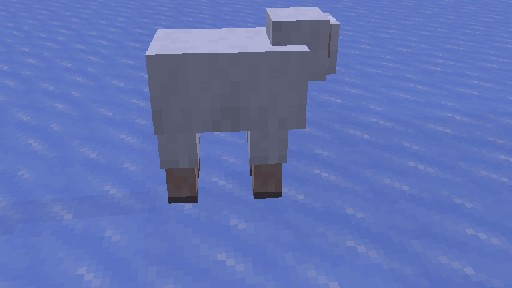sheep: (144, 6, 339, 204)
